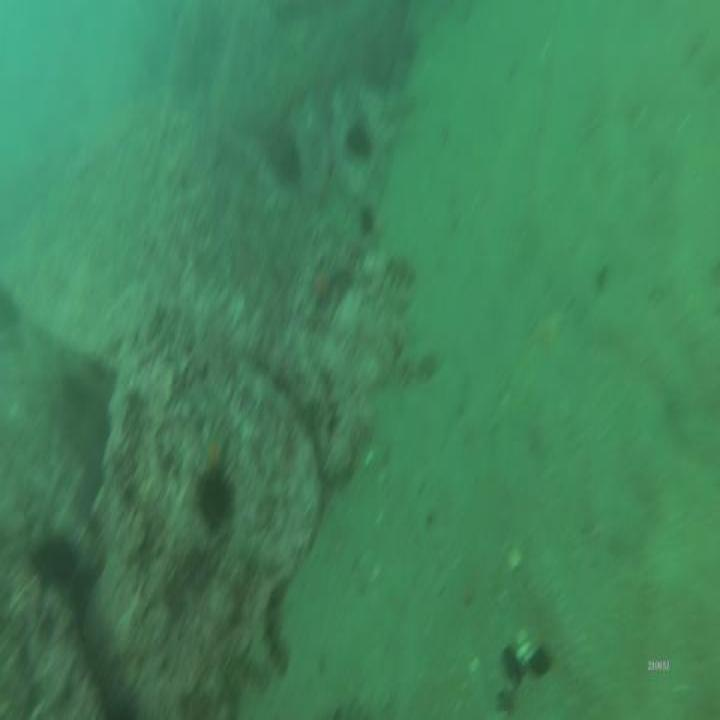echinus: (195, 462, 237, 530)
starfish: (311, 259, 337, 313), (202, 429, 231, 471)
